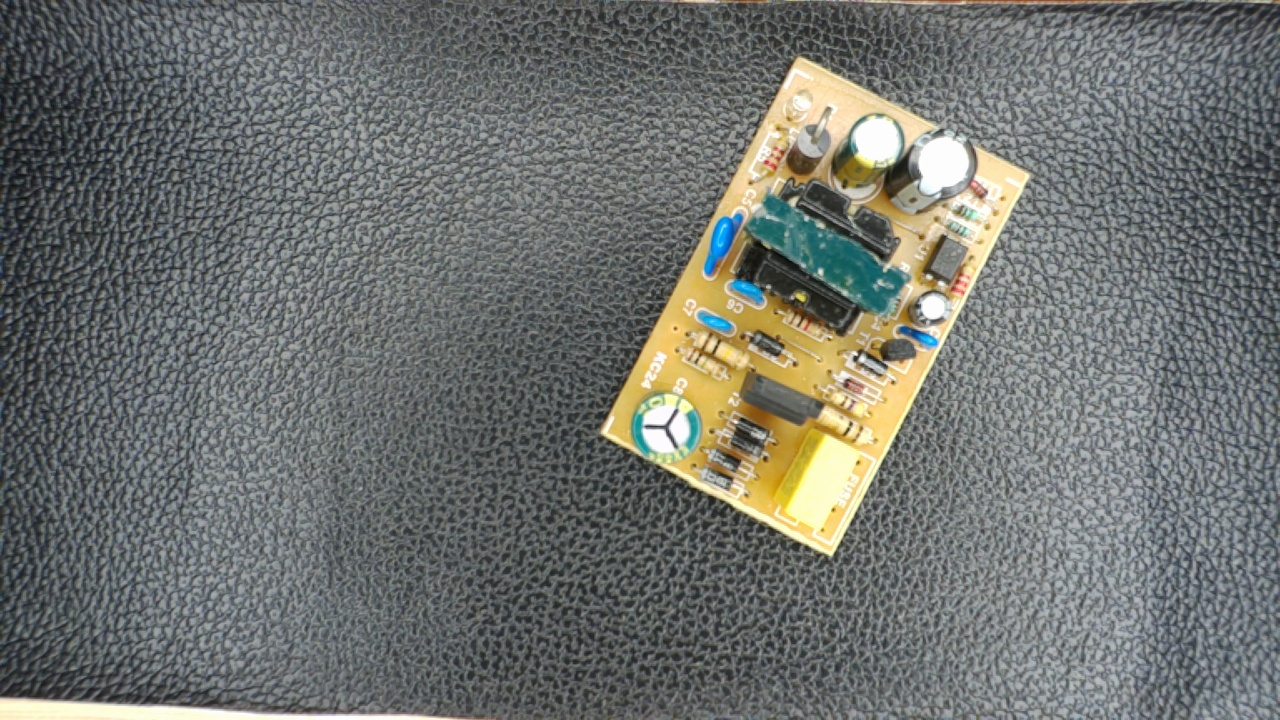hv_capacitor: (626, 390, 705, 464)
mov: (702, 207, 749, 279)
optocoupler: (921, 228, 969, 290)
